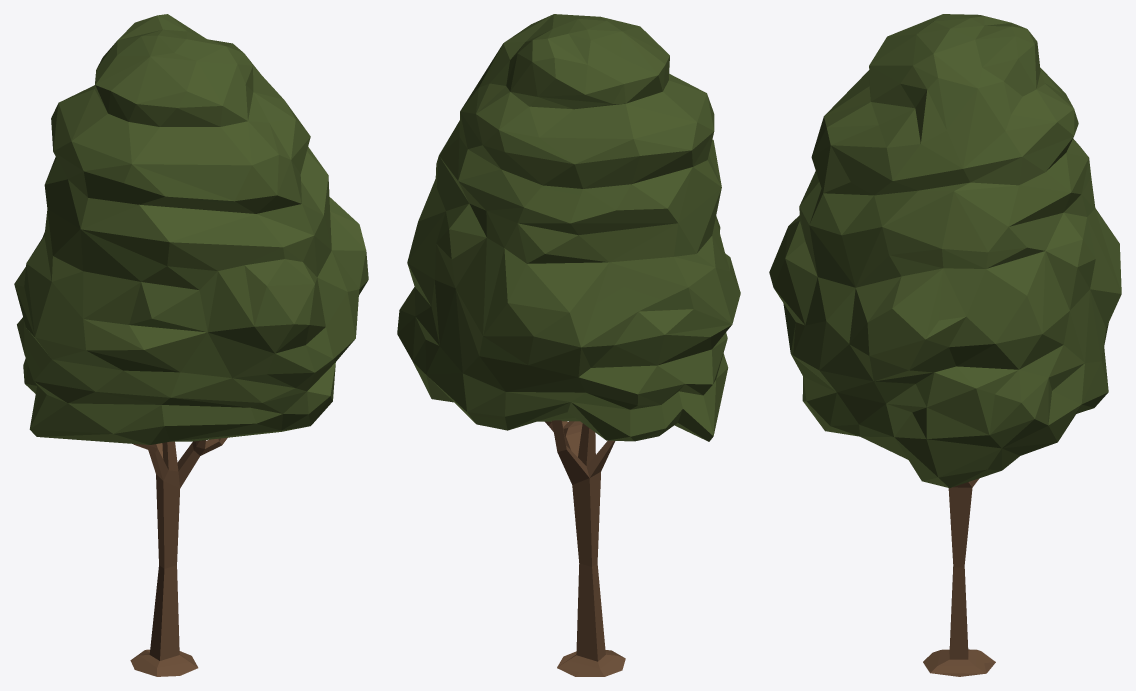
File: delh_foli_04_02.fbx
3 views of the same model, side by side, from view 1: azimuth 30°, elevation 25°; view 2: azimuth 150°, elevation 25°; view 3: azimuth 270°, elevation 25° (orthographic). The views are drawn at different scales.
Parts seen in each view (by area): view 1: delh_foli_04_02; view 2: delh_foli_04_02; view 3: delh_foli_04_02.
Boxes of the visible parts, <box> form: delh_foli_04_02: <box>14,14,368,676</box>; delh_foli_04_02: <box>397,14,740,676</box>; delh_foli_04_02: <box>769,14,1121,676</box>.
Size of the model in its own units: 274 by 530 by 262.
